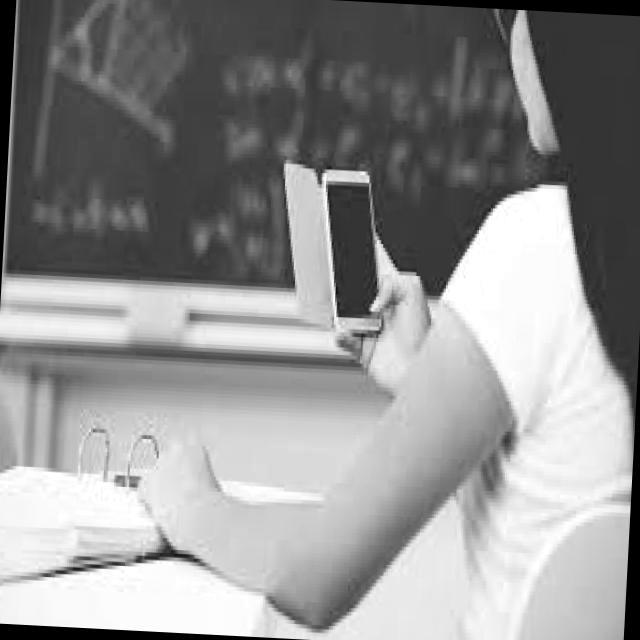phone: (312, 165, 389, 338)
